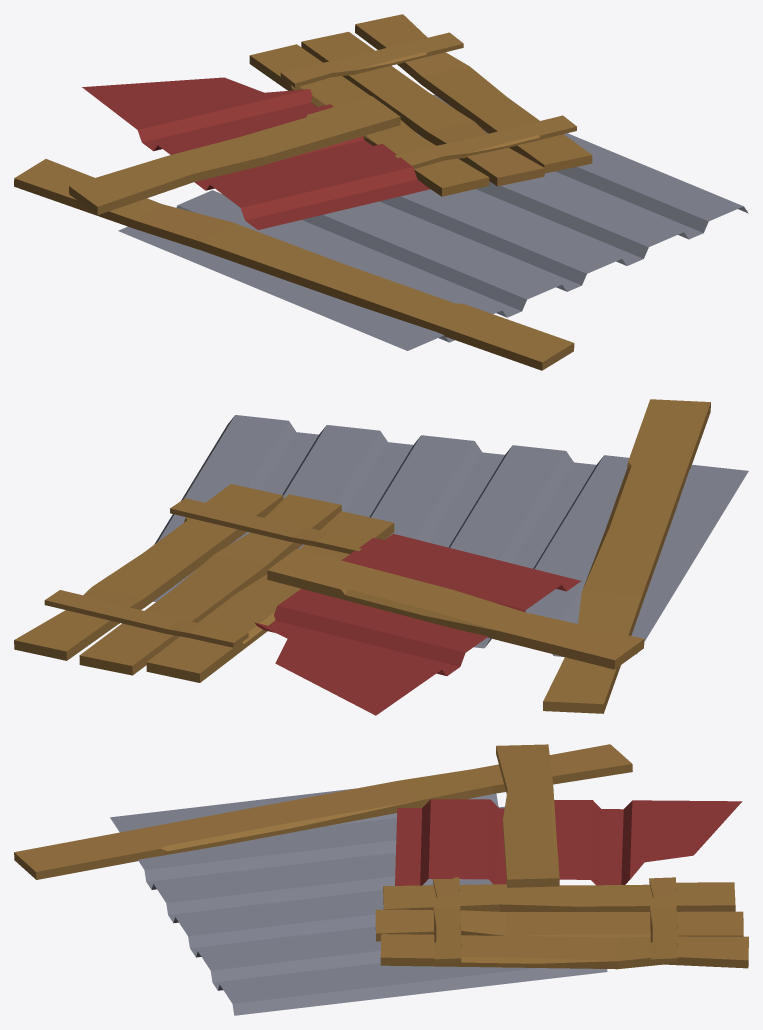
Rendered from Debris Pile.glb.
The picture shows the model from 3 angles, top to bottom: view 1: azimuth 30°, elevation 25°; view 2: azimuth 150°, elevation 25°; view 3: azimuth 270°, elevation 25°; orthographic projection. The views are drawn at different scales.
Visible parts, largest first — view 1: Debris Pile; view 2: Debris Pile; view 3: Debris Pile.
Part boxes in pixels (x1,y1,x2,y2): Debris Pile: (14, 14, 748, 370); Debris Pile: (14, 399, 748, 715); Debris Pile: (14, 744, 748, 1015).
Bounding box in the file's own units: 0.7702 × 0.0595 × 0.9558.
